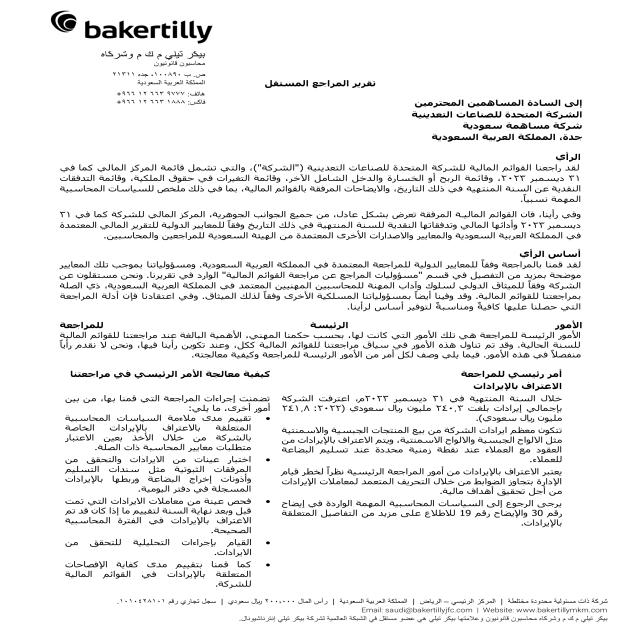auditor_report: (253, 75, 387, 96)
